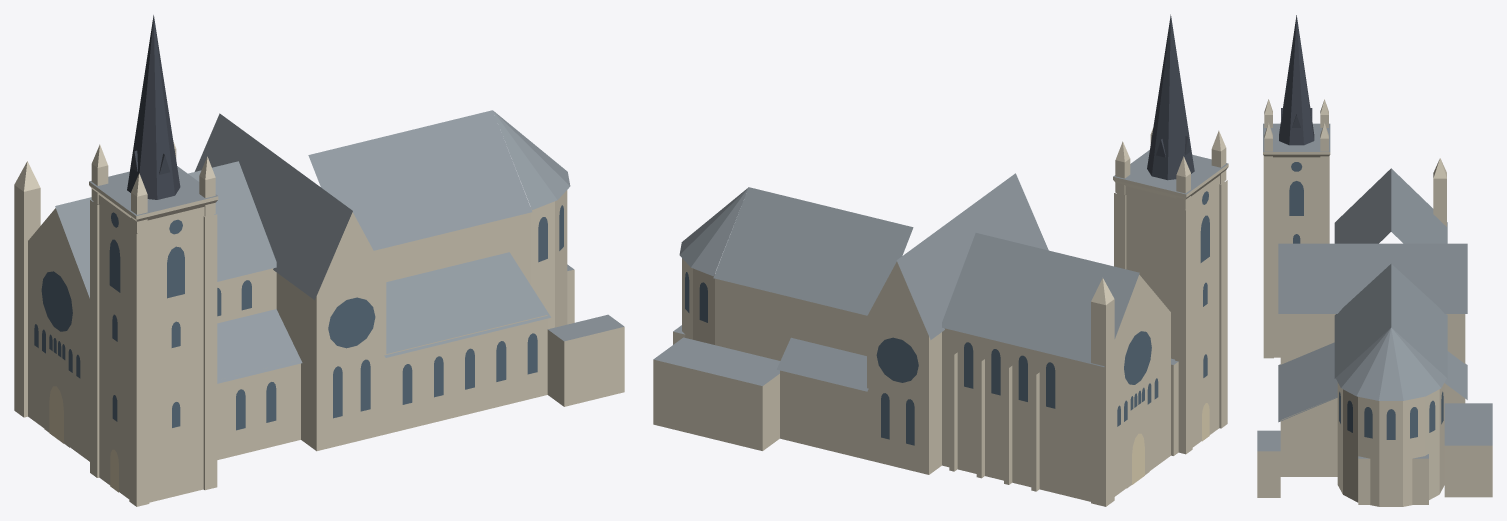
Rendered from chi-holy-name-cathedral.glb.
3 views of the same model, side by side, from view 1: azimuth 30°, elevation 25°; view 2: azimuth 150°, elevation 25°; view 3: azimuth 270°, elevation 25° (orthographic). The views are drawn at different scales.
Visible parts, largest first — view 1: Holy Name Cathedral; view 2: Holy Name Cathedral; view 3: Holy Name Cathedral.
Boxes of the visible parts, bbox=[...] form: Holy Name Cathedral: bbox=[14, 15, 624, 506]; Holy Name Cathedral: bbox=[653, 14, 1228, 506]; Holy Name Cathedral: bbox=[1257, 15, 1492, 506].
Size of the model in its own units: 73.73 by 64 by 41.3.
